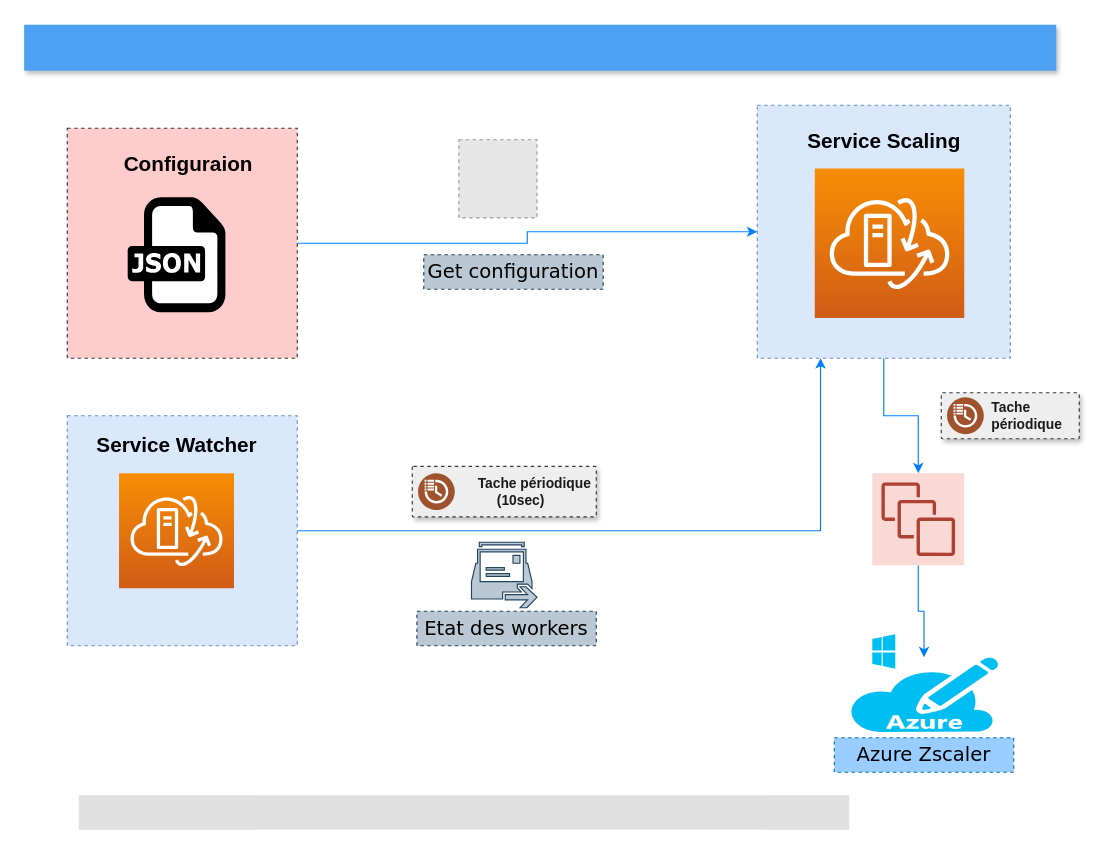
This 1107x849 diagram has some shape labels left out. Grey dashed boxes stand in for pictures. Here are the shapes that lost their labels. From the top down, the centre of each, then its label:
At (x=541, y=49): "Architecture de service d'auto scaling".
At (x=917, y=518): "Nombre d'instance optimale pour un service".
